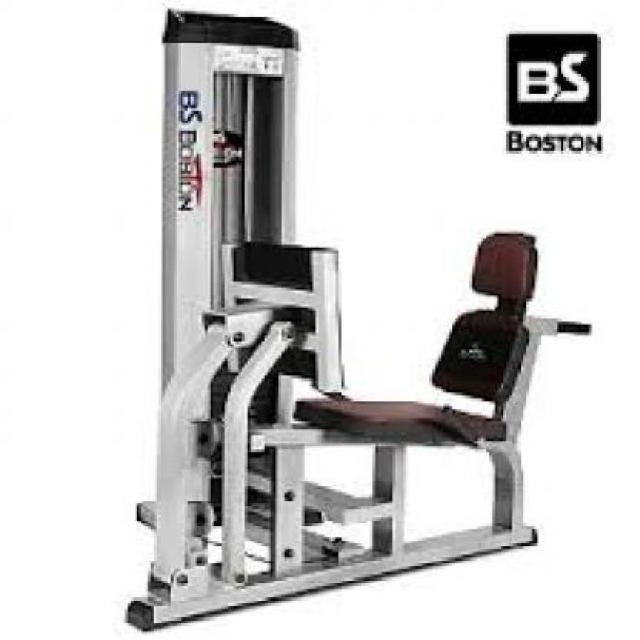leg press: (69, 3, 602, 635)
